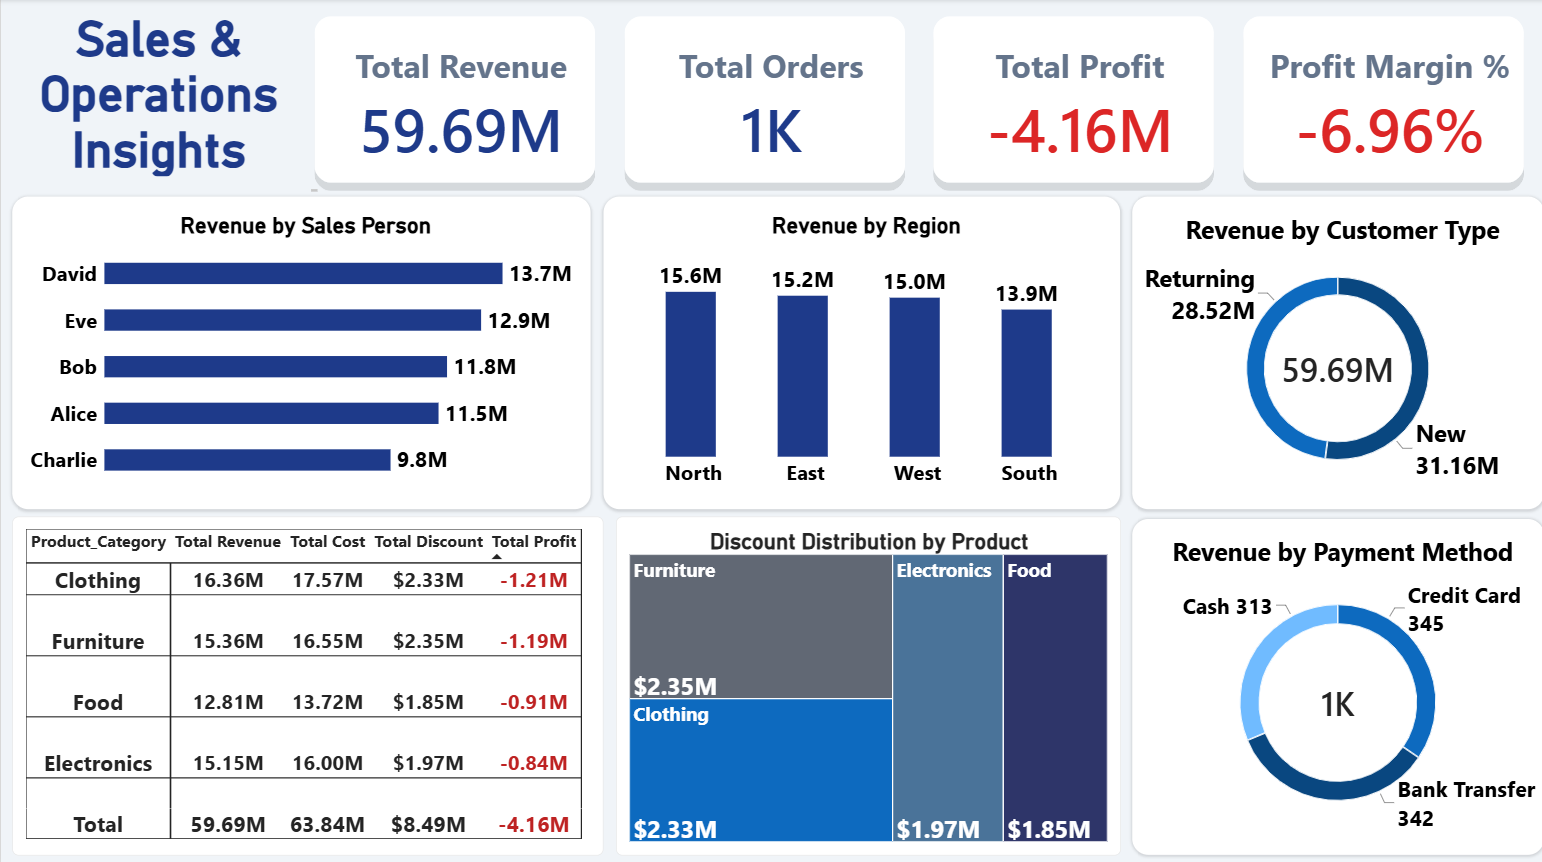

The dashboard page shown, as its layout file describes it:
{"tool":"powerbi","page":{"name":"Sales & Operations Insights","canvas":[1920,1080],"ordinal":1},"visuals":[{"type":"textbox","title":"Sales & Operations Insights","box":[0,14,393.3,225.4],"z":0},{"type":"cardVisual","fields":{"Data":["Measures (2).Total Revenue"]},"box":[379.5,10.9,370.4,228.8],"z":1000},{"type":"cardVisual","fields":{"Data":["Measures (2).Total Orders"]},"box":[764.4,10.9,370.4,228.8],"z":2000},{"type":"cardVisual","fields":{"Data":["Measures (2).Total Profit"]},"box":[1149.4,10.9,370.4,228.8],"z":3000},{"type":"cardVisual","fields":{"Data":["Measures (2).Profit Margin %"]},"box":[1534.3,10.9,370.4,228.8],"z":4000},{"type":"clusteredBarChart","title":"Revenue by Sales Person","fields":{"Category":["VW_Cleaned_Sales.Sales_Rep"],"Y":["Measures (2).Total Revenue"]},"box":[14.5,245.4,719,388.6],"z":5000},{"type":"clusteredColumnChart","title":"Revenue by Region","fields":{"Category":["VW_Cleaned_Sales.Region"],"Y":["Measures (2).Total Revenue"]},"box":[749,245.4,642.8,388.6],"z":6000},{"type":"donutChart","title":"Revenue by Customer Type","fields":{"Category":["VW_Cleaned_Sales.Customer_Type"],"Y":["Measures (2).Total Revenue"]},"box":[1407.2,245.4,512,388.6],"z":7000},{"type":"donutChart","title":"Revenue by Payment Method","fields":{"Category":["VW_Cleaned_Sales.Payment_Method"],"Y":["Measures (2).Total Orders"]},"box":[1407.2,646.4,512,417.6],"z":8000},{"type":"pivotTable","fields":{"Rows":["VW_Cleaned_Sales.Product_Category"],"Values":["Measures (2).Total Revenue","Measures (2).Total Cost","Measures (2).Total Discount","Measures (2).Total Profit"]},"box":[14.5,642.8,735.4,421.3],"z":9000},{"type":"treemap","title":"Discount Distribution by Product","fields":{"Group":["VW_Cleaned_Sales.Product_Category"],"Values":["Measures (2).Total Discount"]},"box":[764.4,642.8,628.2,421.3],"z":10000}]}

Visuals, with their boxes in screenshot pixels (x1, y1, x2, y2), scaled from the page's 1920x1080 canvas onto the 1542x862 screenshot:
"Sales & Operations Insights" textbox: 0, 11, 316, 191
cardVisual - Measures (2).Total Revenue: 305, 9, 602, 191
cardVisual - Measures (2).Total Orders: 614, 9, 911, 191
cardVisual - Measures (2).Total Profit: 923, 9, 1221, 191
cardVisual - Measures (2).Profit Margin %: 1232, 9, 1530, 191
"Revenue by Sales Person" clusteredBarChart: 12, 196, 589, 506
"Revenue by Region" clusteredColumnChart: 602, 196, 1118, 506
"Revenue by Customer Type" donutChart: 1130, 196, 1541, 506
"Revenue by Payment Method" donutChart: 1130, 516, 1541, 849
pivotTable - VW_Cleaned_Sales.Product_Category x Measures (2).Total Revenue: 12, 513, 602, 849
"Discount Distribution by Product" treemap: 614, 513, 1118, 849
